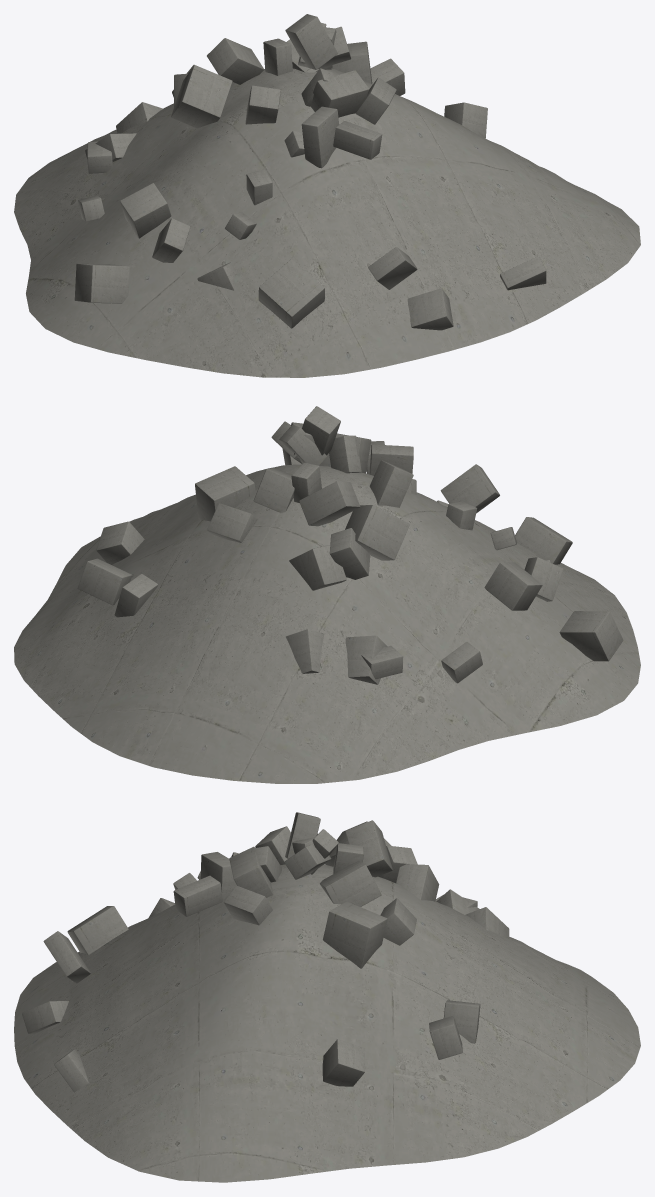
File: SER-DEM-002.glb
The picture shows the model from 3 angles, top to bottom: view 1: azimuth 30°, elevation 25°; view 2: azimuth 150°, elevation 25°; view 3: azimuth 270°, elevation 25°; orthographic projection. The views are drawn at different scales.
Parts seen in each view (by area): view 1: SER-DEM-002_monte, SER-DEM-002_caco6, SER-DEM-002_caco31, SER-DEM-002_caco24, SER-DEM-002_caco12, SER-DEM-002_caco2, SER-DEM-002_caco15, SER-DEM-002_caco26, SER-DEM-002_caco33, SER-DEM-002_caco16, SER-DEM-002_caco29, SER-DEM-002_caco18 (+16 smaller); view 2: SER-DEM-002_monte, SER-DEM-002_caco31, SER-DEM-002_caco24, SER-DEM-002_caco8, SER-DEM-002_caco15, SER-DEM-002_caco33, SER-DEM-002_caco6, SER-DEM-002_caco35, SER-DEM-002_caco30, SER-DEM-002_caco18, SER-DEM-002_caco19, SER-DEM-002_caco25 (+15 smaller); view 3: SER-DEM-002_monte, SER-DEM-002_caco8, SER-DEM-002_caco3, SER-DEM-002_caco6, SER-DEM-002_caco28, SER-DEM-002_caco33, SER-DEM-002_caco29, SER-DEM-002_caco12, SER-DEM-002_caco14, SER-DEM-002_caco18, SER-DEM-002_caco30, SER-DEM-002_caco17 (+12 smaller).
Boxes of the visible parts, box(x1,y1,x2,y2) form: SER-DEM-002_monte: box(14, 68, 640, 377); SER-DEM-002_caco6: box(258, 258, 324, 328); SER-DEM-002_caco31: box(171, 65, 232, 128); SER-DEM-002_caco24: box(74, 263, 129, 303); SER-DEM-002_caco12: box(311, 70, 369, 117); SER-DEM-002_caco2: box(285, 14, 337, 69); SER-DEM-002_caco15: box(120, 183, 171, 238); SER-DEM-002_caco26: box(301, 106, 339, 168); SER-DEM-002_caco33: box(207, 38, 264, 84); SER-DEM-002_caco16: box(407, 288, 453, 330); SER-DEM-002_caco29: box(333, 121, 382, 159); SER-DEM-002_caco18: box(368, 247, 417, 289); SER-DEM-002_monte: box(14, 464, 640, 783); SER-DEM-002_caco31: box(345, 505, 409, 560); SER-DEM-002_caco24: box(559, 611, 623, 661); SER-DEM-002_caco8: box(195, 466, 255, 521); SER-DEM-002_caco15: box(484, 562, 542, 610); SER-DEM-002_caco33: box(299, 481, 360, 526); SER-DEM-002_caco6: box(515, 517, 572, 564); SER-DEM-002_caco35: box(77, 558, 132, 605); SER-DEM-002_caco30: box(289, 545, 346, 590); SER-DEM-002_caco18: box(440, 464, 499, 513); SER-DEM-002_caco19: box(329, 528, 370, 579); SER-DEM-002_caco25: box(369, 460, 413, 507); SER-DEM-002_monte: box(14, 864, 640, 1182); SER-DEM-002_caco8: box(323, 901, 387, 968); SER-DEM-002_caco3: box(320, 860, 381, 906); SER-DEM-002_caco6: box(67, 906, 128, 955); SER-DEM-002_caco28: box(322, 1039, 364, 1086); SER-DEM-002_caco33: box(345, 820, 392, 877); SER-DEM-002_caco29: box(173, 875, 222, 916); SER-DEM-002_caco12: box(229, 846, 273, 897); SER-DEM-002_caco14: box(224, 885, 272, 925); SER-DEM-002_caco18: box(43, 931, 90, 983); SER-DEM-002_caco30: box(396, 864, 439, 901); SER-DEM-002_caco17: box(380, 898, 416, 945).
Bounding box in the file's own units: 1.69 × 0.67 × 1.62.
Materials: 1 (1 with a texture image).
